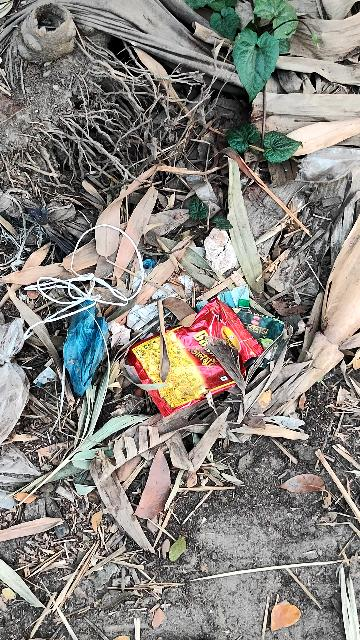polythene: (113, 278, 266, 427), (58, 299, 113, 393)
